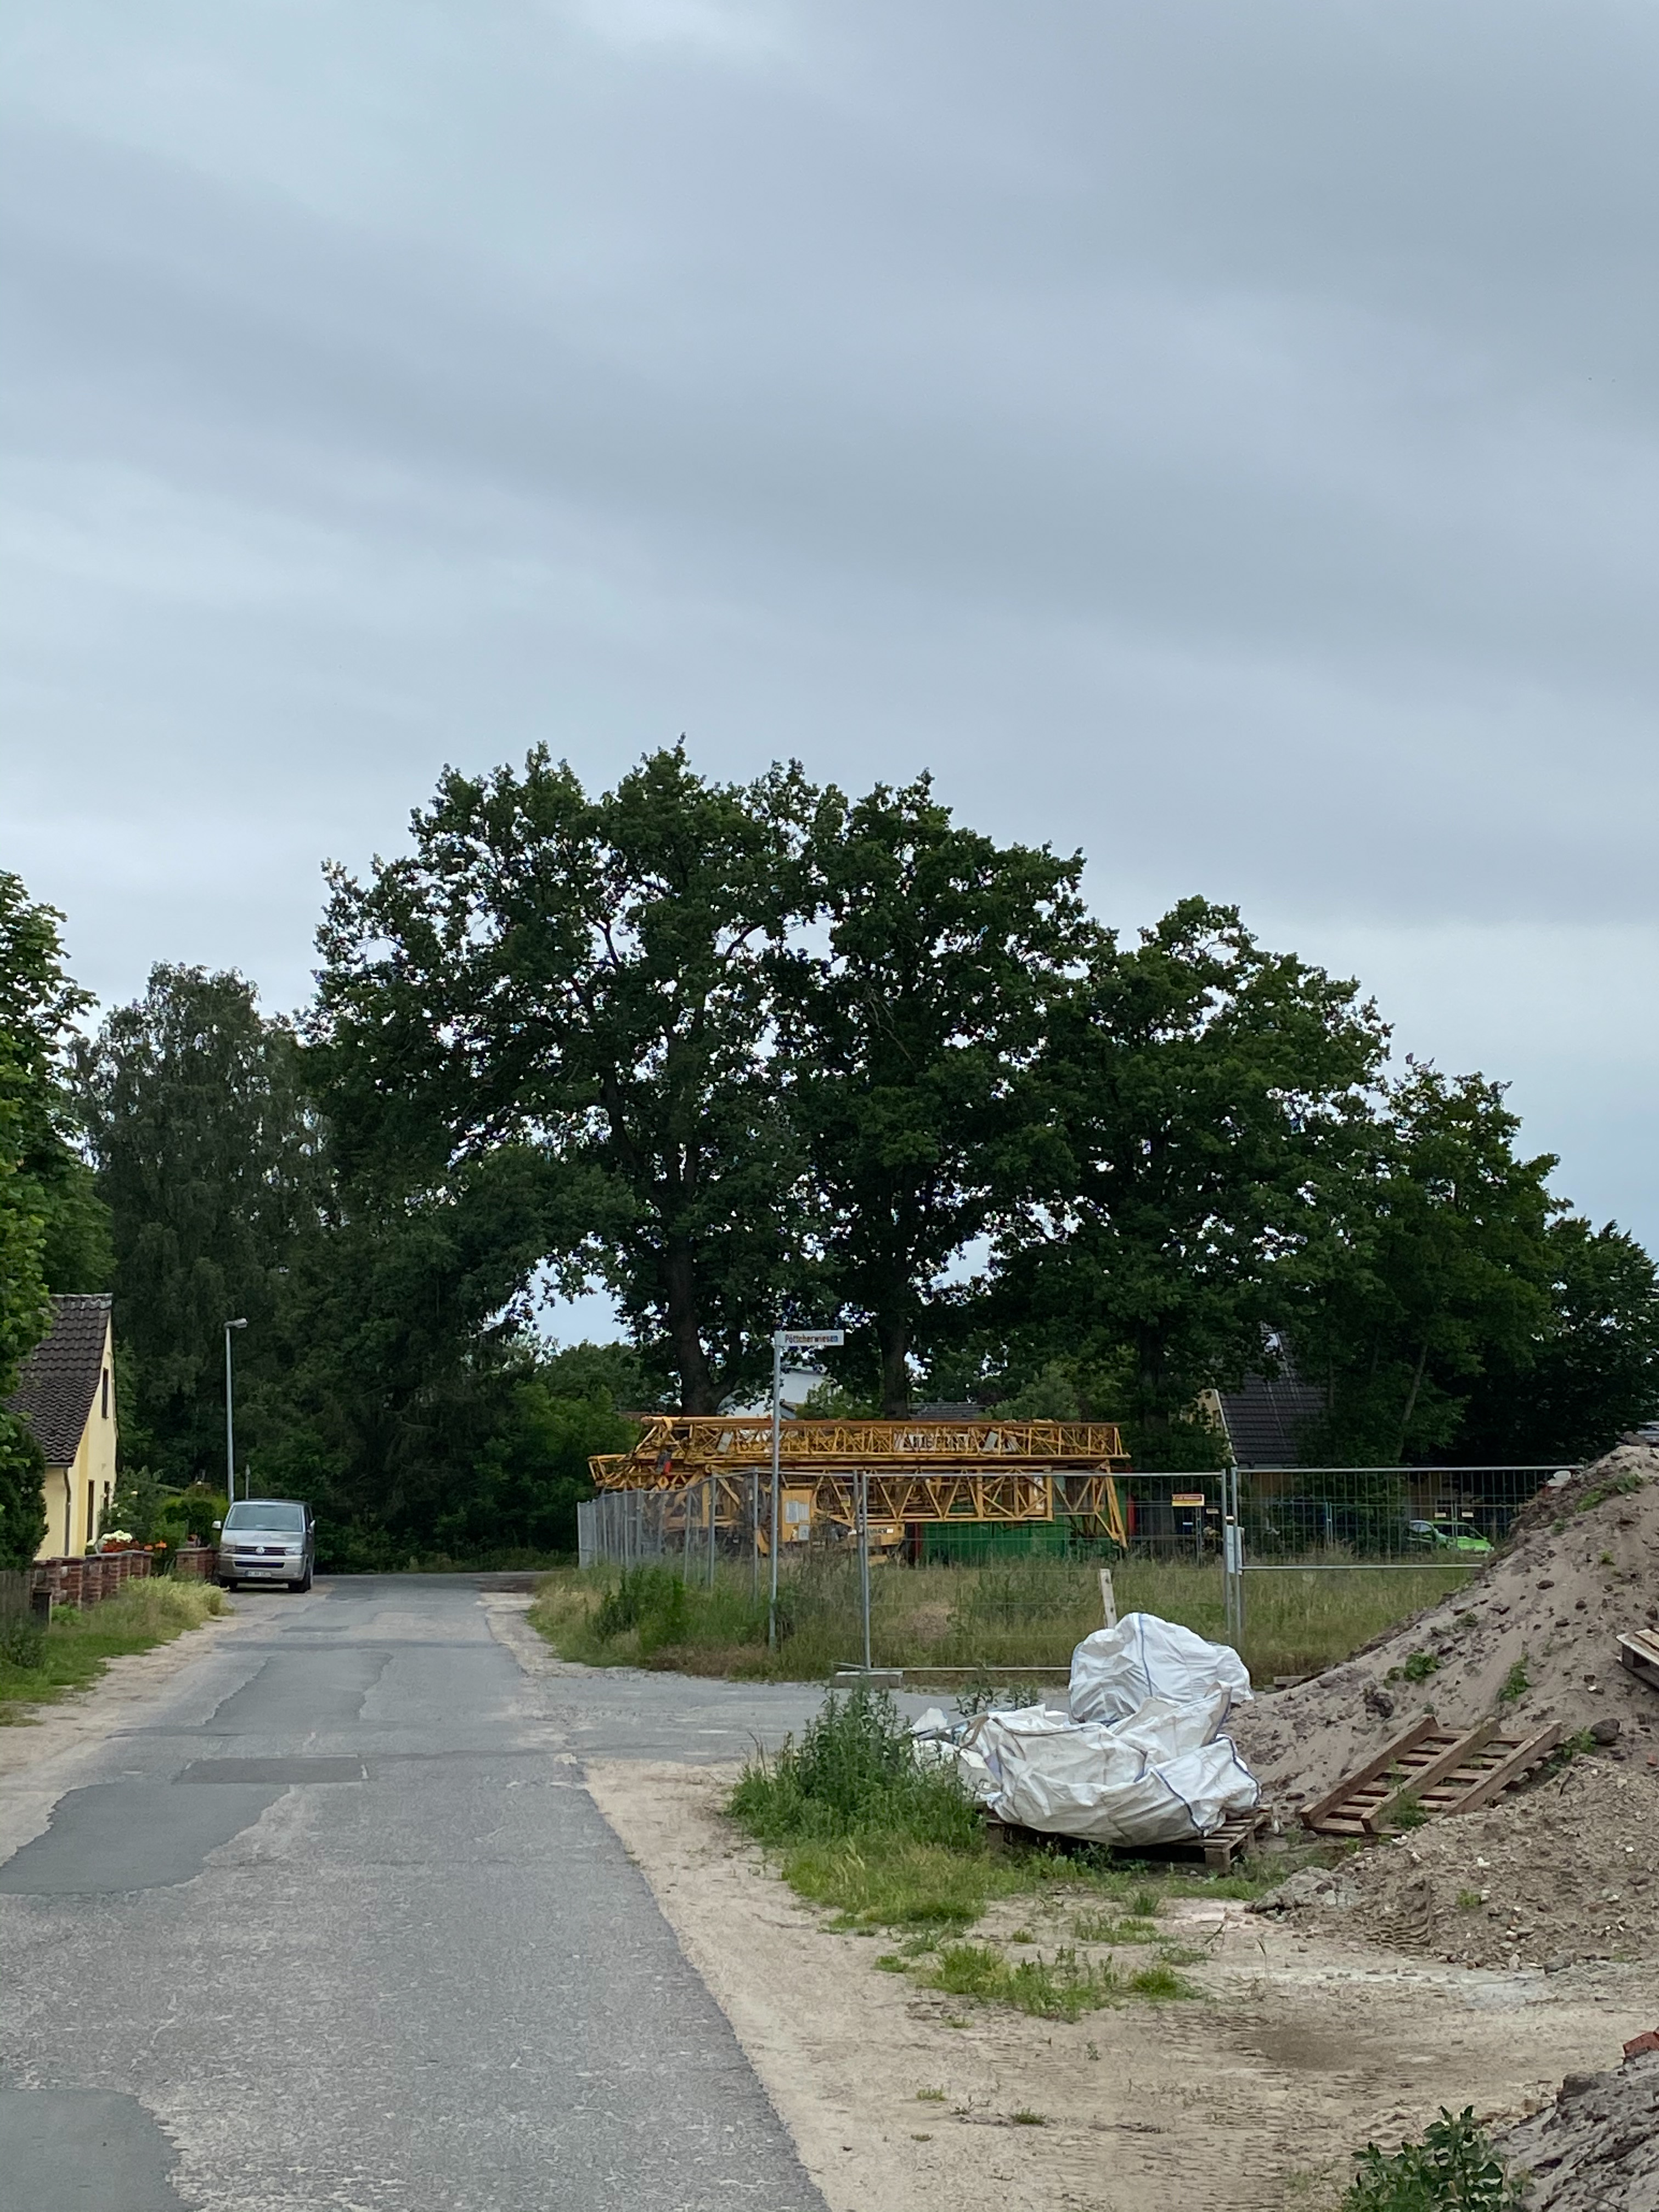tree: (300, 732, 819, 1420), (958, 890, 1391, 1557), (746, 763, 1112, 1426), (45, 958, 366, 1501), (1281, 1052, 1657, 1468), (0, 869, 119, 1292)
